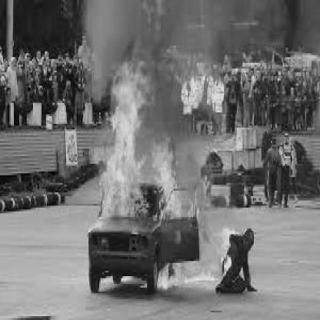Fire: (159, 256, 217, 288)
